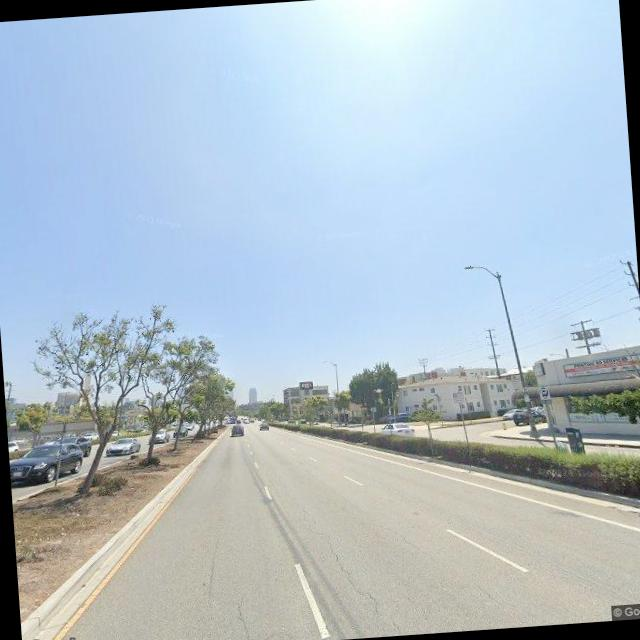crack: (302, 504, 386, 630), (381, 520, 438, 566), (198, 532, 225, 592), (229, 585, 256, 640)
